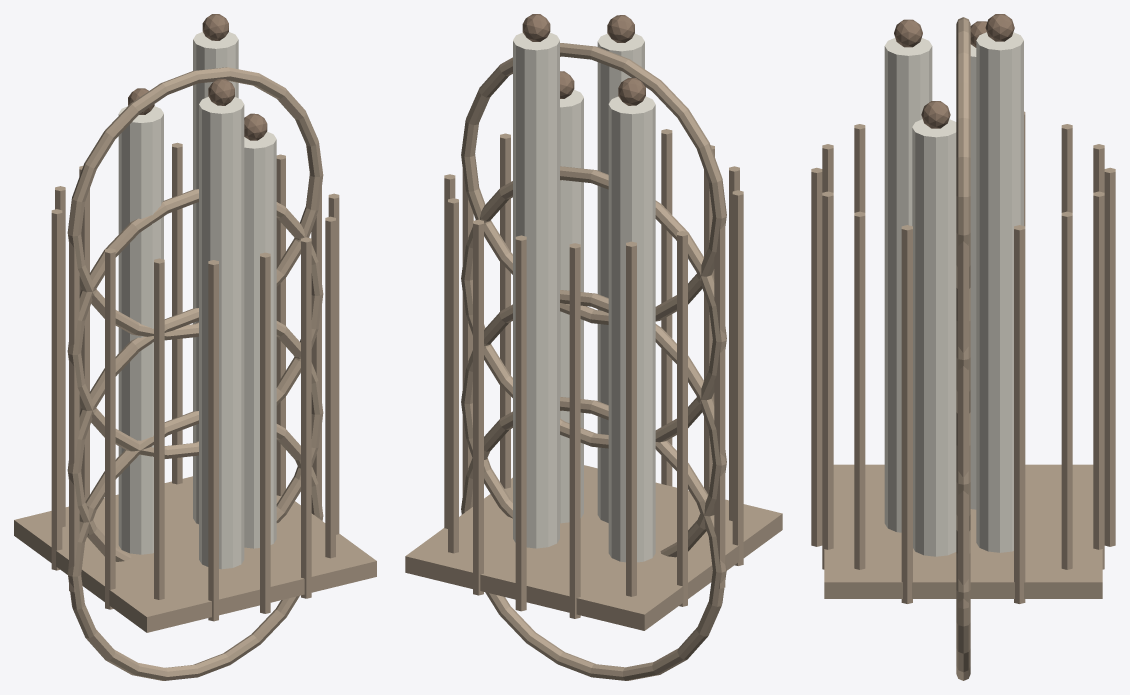
File: prop_bamboo_scroll_basket.glb
The picture shows the model from 3 angles, left to right: view 1: azimuth 30°, elevation 25°; view 2: azimuth 150°, elevation 25°; view 3: azimuth 270°, elevation 25°; orthographic projection. The views are drawn at different scales.
Parts seen in each view (by area): view 1: prop_bamboo_scroll_basket/scroll_basket_base_00020, prop_bamboo_scroll_basket/paper_scroll_roll_00025, prop_bamboo_scroll_basket/paper_scroll_roll_00021, prop_bamboo_scroll_basket/paper_scroll_roll_00027, prop_bamboo_scroll_basket/scroll_basket_hoop_00003, prop_bamboo_scroll_basket/scroll_basket_hoop_00000, prop_bamboo_scroll_basket/scroll_basket_hoop_00002, prop_bamboo_scroll_basket/scroll_basket_hoop_00001, prop_bamboo_scroll_basket/scroll_basket_stave_00011, prop_bamboo_scroll_basket/paper_scroll_roll_00023, prop_bamboo_scroll_basket/scroll_basket_stave_00016, prop_bamboo_scroll_basket/scroll_basket_stave_00017 (+14 smaller); view 2: prop_bamboo_scroll_basket/scroll_basket_base_00020, prop_bamboo_scroll_basket/paper_scroll_roll_00023, prop_bamboo_scroll_basket/paper_scroll_roll_00021, prop_bamboo_scroll_basket/scroll_basket_hoop_00003, prop_bamboo_scroll_basket/scroll_basket_hoop_00000, prop_bamboo_scroll_basket/scroll_basket_hoop_00002, prop_bamboo_scroll_basket/paper_scroll_roll_00027, prop_bamboo_scroll_basket/paper_scroll_roll_00025, prop_bamboo_scroll_basket/scroll_basket_hoop_00001, prop_bamboo_scroll_basket/scroll_basket_stave_00008, prop_bamboo_scroll_basket/scroll_basket_stave_00009, prop_bamboo_scroll_basket/scroll_basket_stave_00013 (+14 smaller); view 3: prop_bamboo_scroll_basket/paper_scroll_roll_00023, prop_bamboo_scroll_basket/scroll_basket_base_00020, prop_bamboo_scroll_basket/paper_scroll_roll_00027, prop_bamboo_scroll_basket/paper_scroll_roll_00025, prop_bamboo_scroll_basket/scroll_basket_stave_00008, prop_bamboo_scroll_basket/scroll_basket_stave_00016, prop_bamboo_scroll_basket/scroll_basket_stave_00005, prop_bamboo_scroll_basket/scroll_basket_stave_00019, prop_bamboo_scroll_basket/scroll_basket_stave_00007, prop_bamboo_scroll_basket/scroll_basket_stave_00017, prop_bamboo_scroll_basket/scroll_basket_stave_00006, prop_bamboo_scroll_basket/scroll_basket_stave_00018 (+13 smaller).
Boxes of the visible parts, x1,y1,x2,y2 form: prop_bamboo_scroll_basket/scroll_basket_base_00020: (14, 476, 376, 632); prop_bamboo_scroll_basket/paper_scroll_roll_00025: (199, 97, 244, 569); prop_bamboo_scroll_basket/paper_scroll_roll_00021: (118, 106, 163, 554); prop_bamboo_scroll_basket/paper_scroll_roll_00027: (244, 131, 276, 548); prop_bamboo_scroll_basket/scroll_basket_hoop_00003: (67, 67, 323, 340); prop_bamboo_scroll_basket/scroll_basket_hoop_00000: (67, 411, 323, 680); prop_bamboo_scroll_basket/scroll_basket_hoop_00002: (67, 189, 323, 458); prop_bamboo_scroll_basket/scroll_basket_hoop_00001: (67, 308, 323, 561); prop_bamboo_scroll_basket/scroll_basket_stave_00011: (51, 209, 62, 570); prop_bamboo_scroll_basket/paper_scroll_roll_00023: (193, 32, 238, 524); prop_bamboo_scroll_basket/scroll_basket_stave_00016: (260, 252, 270, 613); prop_bamboo_scroll_basket/scroll_basket_stave_00017: (301, 237, 311, 598); prop_bamboo_scroll_basket/scroll_basket_base_00020: (405, 465, 782, 630); prop_bamboo_scroll_basket/paper_scroll_roll_00023: (513, 32, 559, 548); prop_bamboo_scroll_basket/paper_scroll_roll_00021: (608, 96, 655, 562); prop_bamboo_scroll_basket/scroll_basket_hoop_00003: (461, 43, 726, 324); prop_bamboo_scroll_basket/scroll_basket_hoop_00000: (461, 397, 726, 680); prop_bamboo_scroll_basket/scroll_basket_hoop_00002: (461, 166, 726, 448); prop_bamboo_scroll_basket/paper_scroll_roll_00027: (560, 89, 583, 523); prop_bamboo_scroll_basket/paper_scroll_roll_00025: (597, 33, 644, 522); prop_bamboo_scroll_basket/scroll_basket_hoop_00001: (461, 290, 726, 557); prop_bamboo_scroll_basket/scroll_basket_stave_00008: (515, 235, 526, 611); prop_bamboo_scroll_basket/scroll_basket_stave_00009: (569, 243, 580, 618); prop_bamboo_scroll_basket/scroll_basket_stave_00013: (732, 190, 743, 565); prop_bamboo_scroll_basket/paper_scroll_roll_00023: (976, 32, 1023, 552); prop_bamboo_scroll_basket/scroll_basket_base_00020: (824, 464, 1102, 598); prop_bamboo_scroll_basket/paper_scroll_roll_00027: (912, 119, 956, 556); prop_bamboo_scroll_basket/paper_scroll_roll_00025: (884, 38, 932, 532); prop_bamboo_scroll_basket/scroll_basket_stave_00008: (1104, 167, 1115, 546); prop_bamboo_scroll_basket/scroll_basket_stave_00016: (811, 167, 822, 546); prop_bamboo_scroll_basket/scroll_basket_stave_00005: (1014, 225, 1025, 603); prop_bamboo_scroll_basket/scroll_basket_stave_00019: (901, 225, 912, 603); prop_bamboo_scroll_basket/scroll_basket_stave_00007: (1093, 191, 1104, 569); prop_bamboo_scroll_basket/scroll_basket_stave_00017: (822, 191, 833, 569); prop_bamboo_scroll_basket/scroll_basket_stave_00006: (1061, 211, 1072, 569); prop_bamboo_scroll_basket/scroll_basket_stave_00018: (854, 211, 865, 569).
Size of the model in its own units: 0.336 by 0.809 by 0.3321.
